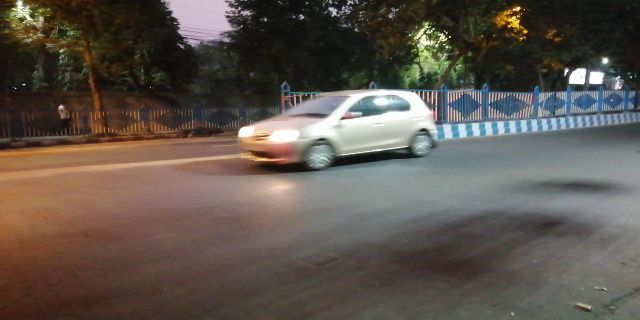Car: (236, 87, 437, 174)
